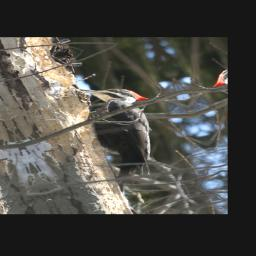Woodpecker: (71, 78, 194, 196)
